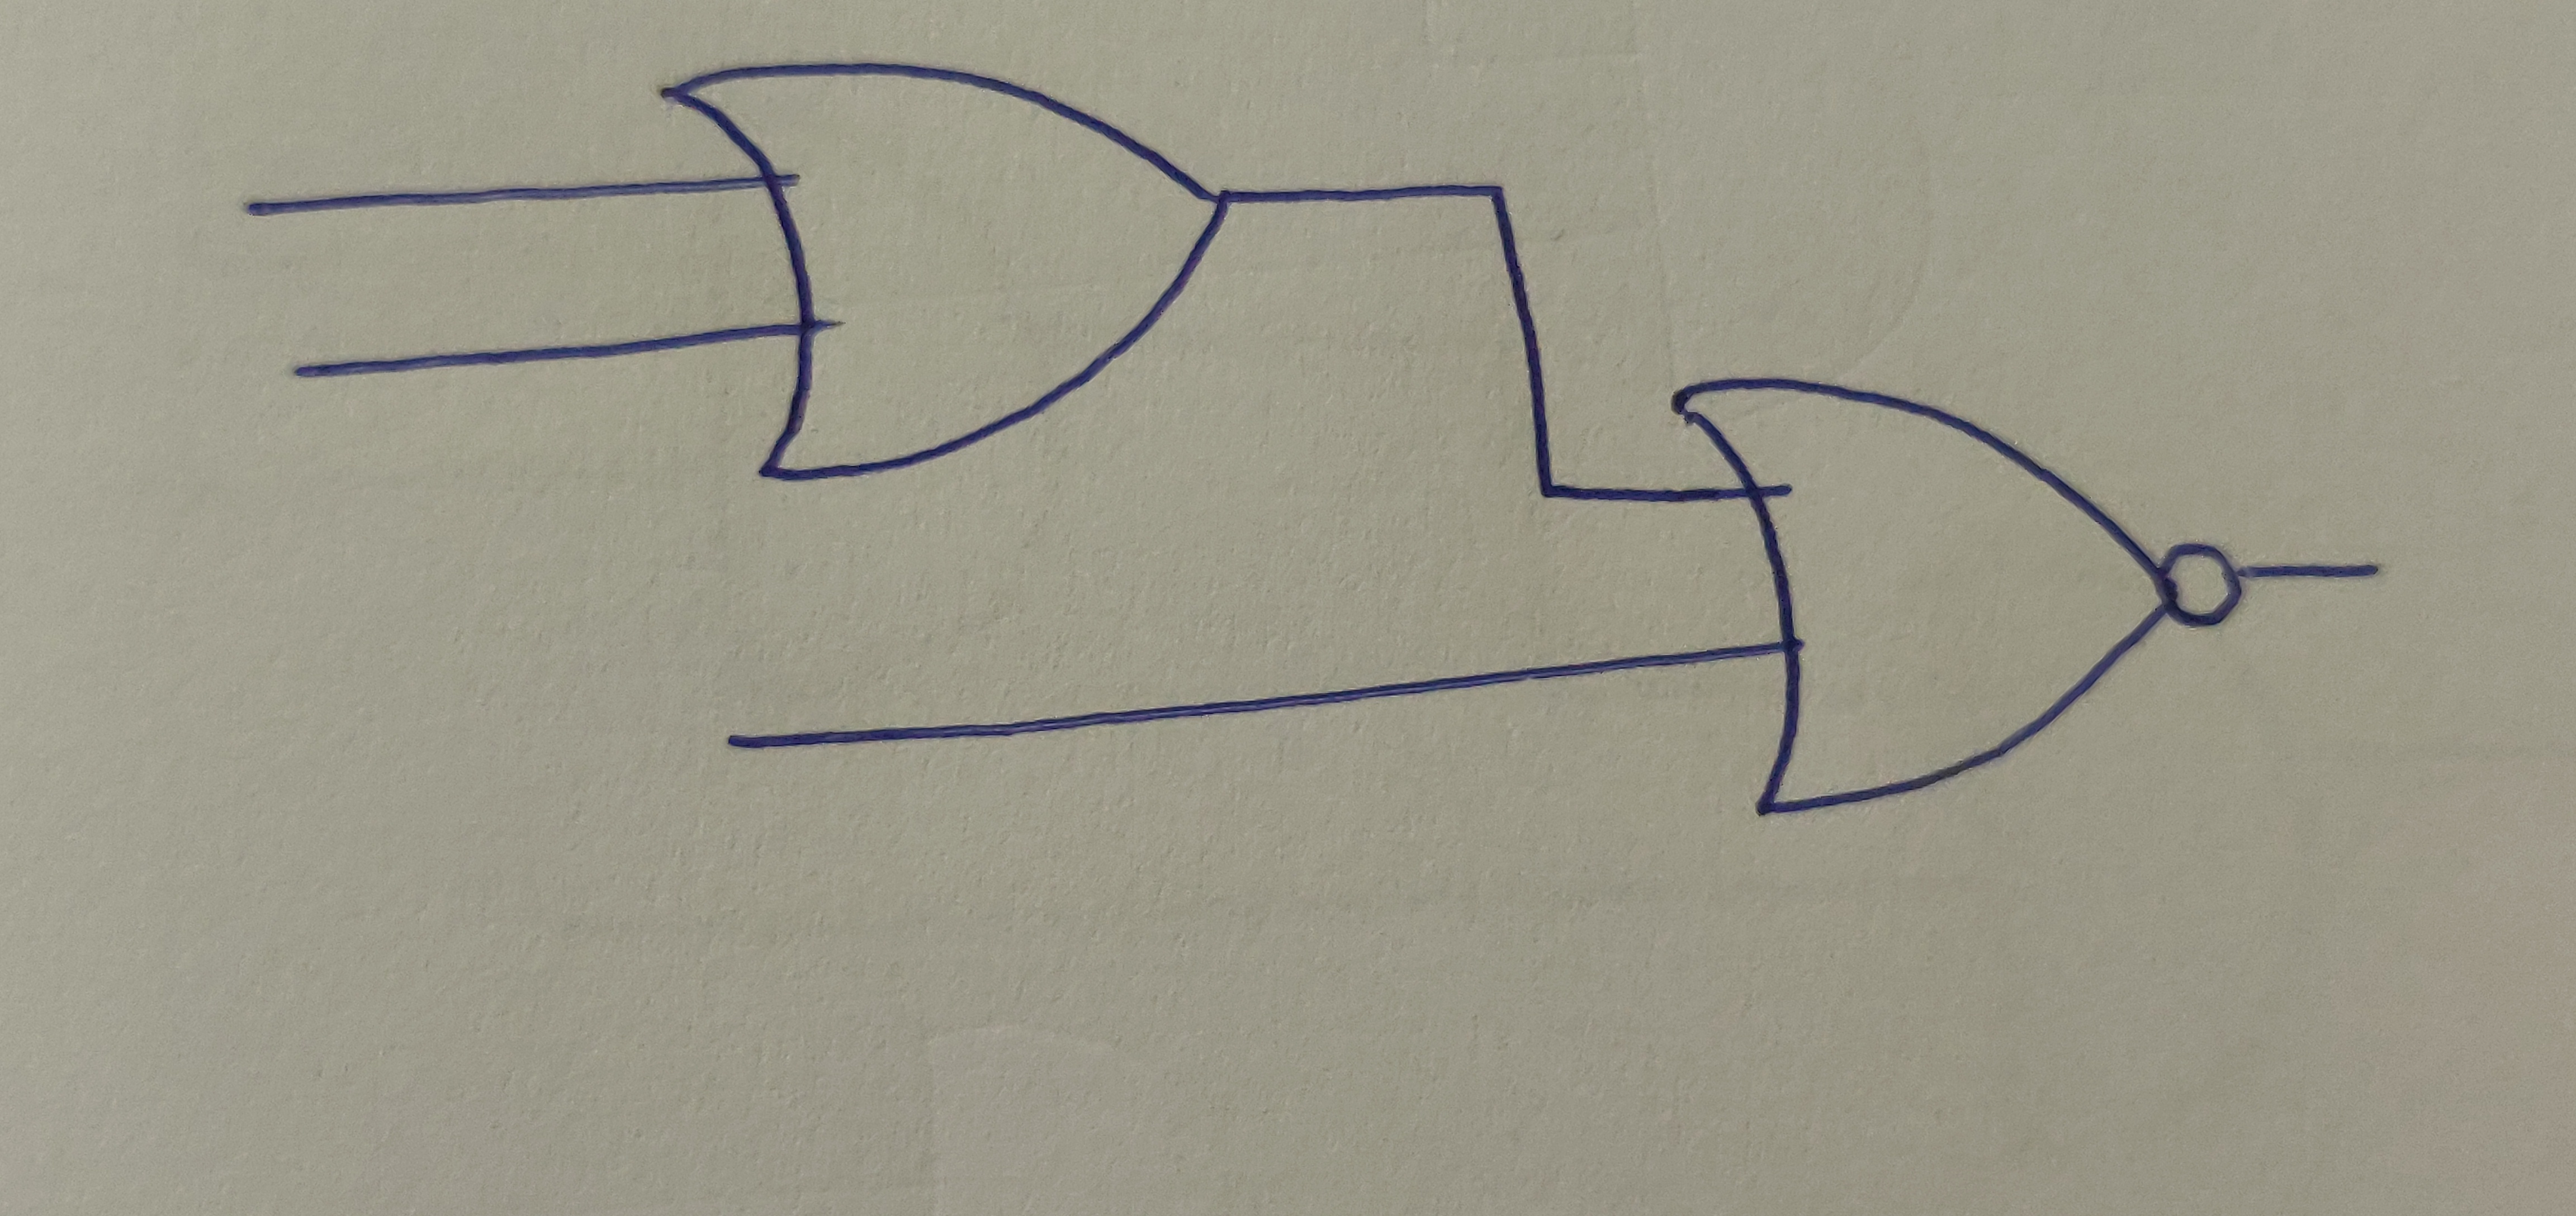not: (2162, 534, 2239, 631)
or: (665, 62, 1224, 488), (1659, 380, 2165, 813)
